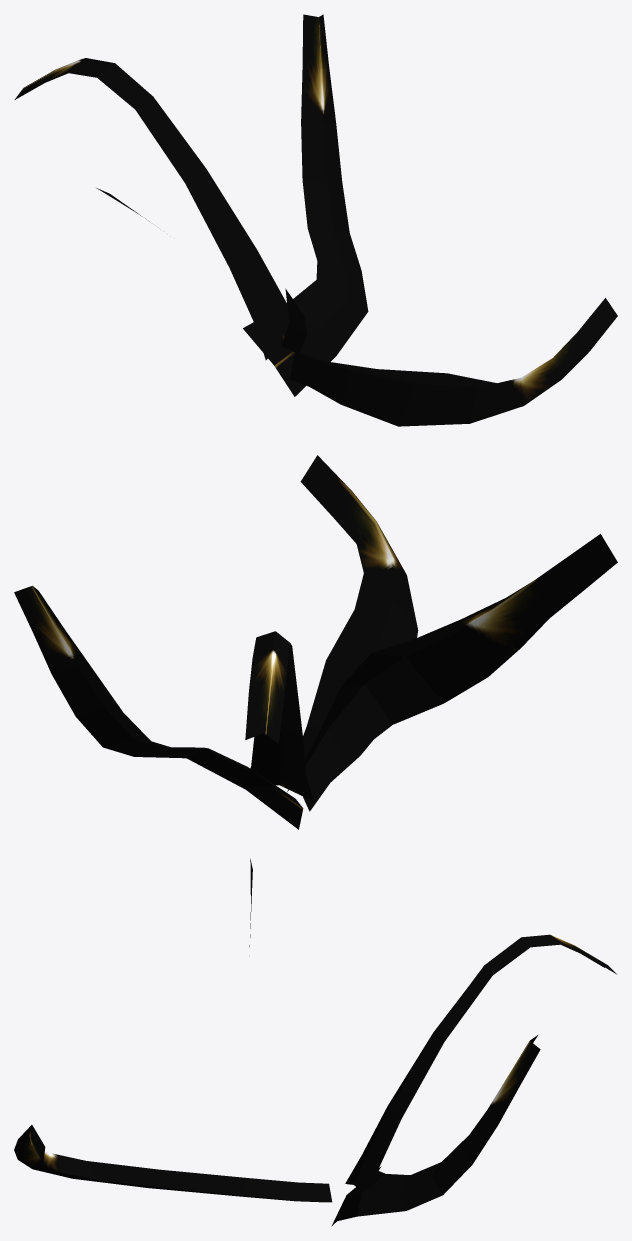
3 views of the same model, one above another, from view 1: azimuth 30°, elevation 25°; view 2: azimuth 150°, elevation 25°; view 3: azimuth 270°, elevation 25° (orthographic). The views are drawn at different scales.
Parts seen in each view (by area): view 1: Object001; view 2: Object001; view 3: Object001.
Part boxes in pixels (x1=…): Object001: x1=14, y1=14, x2=617, y2=426; Object001: x1=14, y1=455, x2=617, y2=829; Object001: x1=14, y1=858, x2=617, y2=1226.
Bounding box in the file's own units: 322 × 224 × 459.
1 material, 1 textured.
